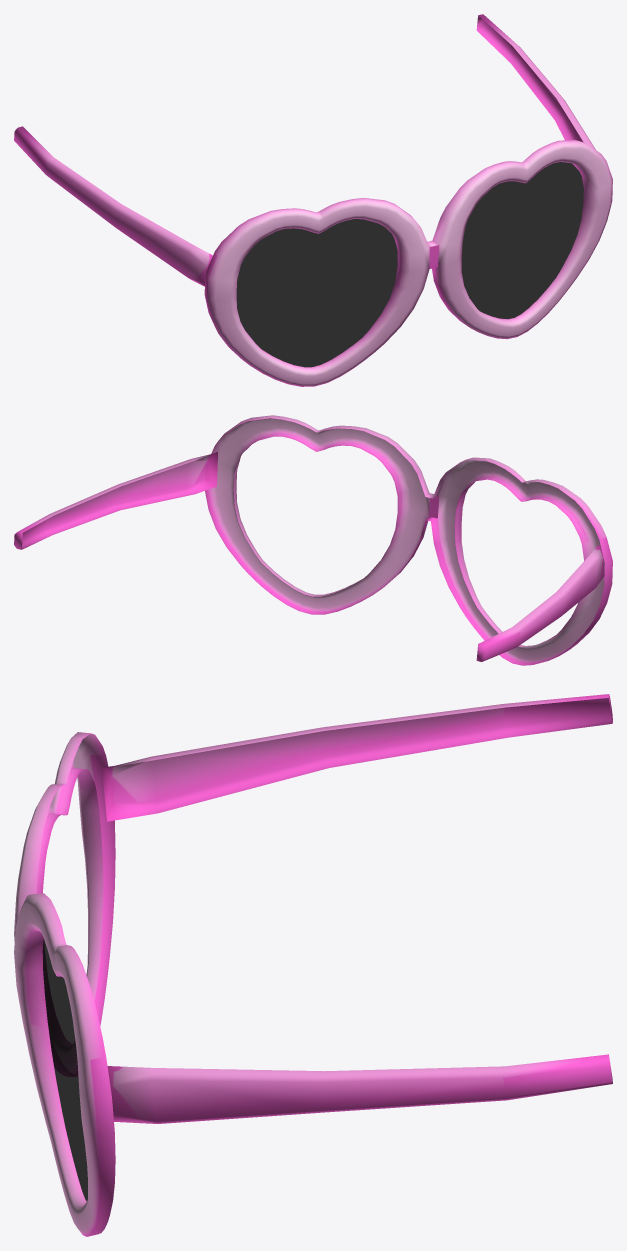
The model's file is party_glasses_heart_type.glb.
3 views of the same model, one above another, from view 1: azimuth 30°, elevation 25°; view 2: azimuth 150°, elevation 25°; view 3: azimuth 270°, elevation 25° (orthographic). The views are drawn at different scales.
Parts seen in each view (by area): view 1: Party_Glasses_Star; view 2: Party_Glasses_Star; view 3: Party_Glasses_Star.
Boxes of the visible parts, x1=… form: Party_Glasses_Star: x1=14, y1=14, x2=612, y2=386; Party_Glasses_Star: x1=14, y1=415, x2=612, y2=665; Party_Glasses_Star: x1=14, y1=694, x2=612, y2=1236.
Size of the model in its own units: 17.45 by 6.53 by 11.91.
2 materials, 2 textured.
